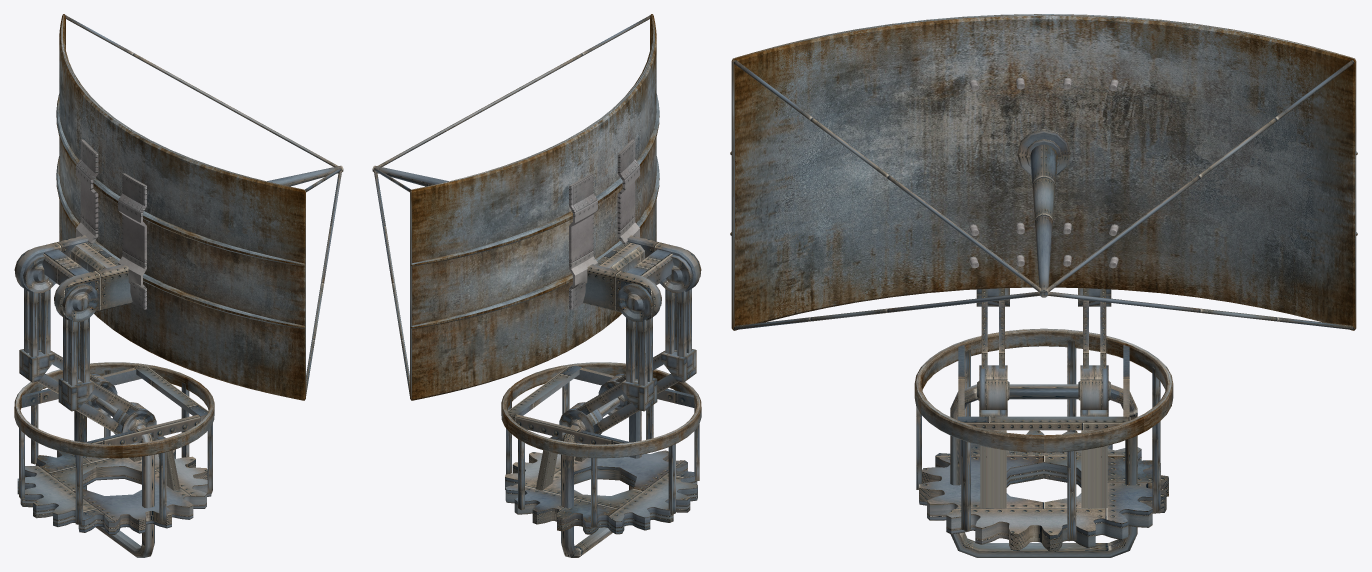
File: static2.glb
3 views of the same model, side by side, from view 1: azimuth 30°, elevation 25°; view 2: azimuth 150°, elevation 25°; view 3: azimuth 270°, elevation 25° (orthographic). The views are drawn at different scales.
Parts seen in each view (by area): view 1: Cube, Extrude, Tube_1, Plane, Cube_6, Cube_1_3_2, Cube_5, Sweep, Cylinder_2, Cube_9, Cylinder_3_3, Cube_1_5_2 (+9 smaller); view 2: Cube, Extrude, Tube_1, Plane, Cube_6, Cube_1_3_2, Cube_5, Sweep, Cylinder_2, Cube_9, Cylinder_3_3, Cube_1_5_2 (+10 smaller); view 3: Cube, Extrude, Tube_1, Cylinder_2, Sweep, Cube_3, Cone, Cylinder_4_2, Cube_8, Cube_7, Cube_9, Cylinder (+3 smaller).
Boxes of the visible parts, <box> form: Cube: <box>59,14,305,400</box>; Extrude: <box>17,449,211,534</box>; Tube_1: <box>14,362,214,458</box>; Plane: <box>76,139,146,309</box>; Cube_6: <box>24,289,89,385</box>; Cube_1_3_2: <box>56,94,305,328</box>; Cube_5: <box>16,235,132,320</box>; Sweep: <box>74,397,154,557</box>; Cylinder_2: <box>65,15,341,395</box>; Cube_9: <box>21,368,200,444</box>; Cylinder_3_3: <box>14,249,99,321</box>; Cube_1_5_2: <box>19,349,93,411</box>; Cube: <box>410,14,656,400</box>; Extrude: <box>505,450,697,534</box>; Tube_1: <box>501,362,701,458</box>; Plane: <box>569,139,639,309</box>; Cube_6: <box>626,289,691,385</box>; Cube_1_3_2: <box>410,94,659,328</box>; Cube_5: <box>583,235,699,320</box>; Sweep: <box>561,397,641,557</box>; Cylinder_2: <box>374,15,650,395</box>; Cube_9: <box>515,368,694,444</box>; Cylinder_3_3: <box>616,249,701,321</box>; Cube_1_5_2: <box>622,349,696,411</box>; Cube: <box>731,14,1356,330</box>; Extrude: <box>919,430,1168,551</box>; Tube_1: <box>914,328,1173,452</box>; Cylinder_2: <box>733,60,1354,329</box>; Sweep: <box>950,384,1137,557</box>; Cube_3: <box>980,410,1107,507</box>; Cone: <box>1030,144,1057,297</box>; Cylinder_4_2: <box>977,365,1110,416</box>; Cube_8: <box>957,416,1130,430</box>; Cube_7: <box>981,288,1106,368</box>; Cube_9: <box>958,345,1129,416</box>; Cylinder: <box>1017,129,1070,175</box>.
Bounding box in the file's own units: 3.04 × 3.87 × 4.07.
Materials: 4 (4 with a texture image).
